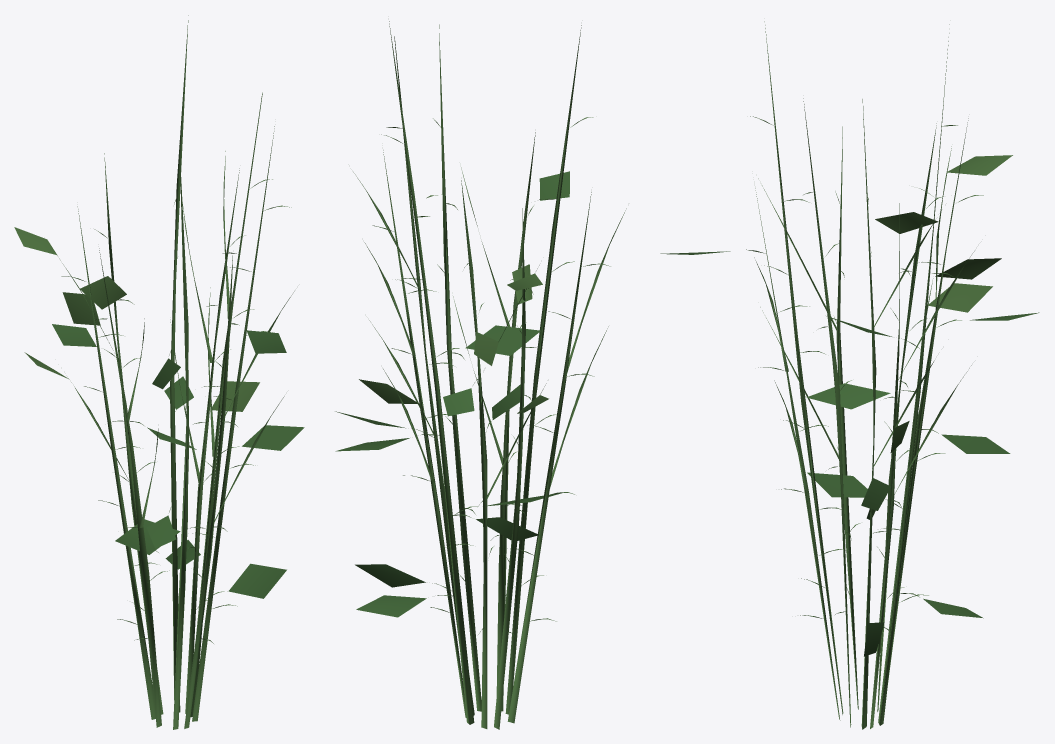
Rendered from Fragon_1_Niveau2.fbx.
3 renders of one model, left to right at view 1: azimuth 30°, elevation 25°; view 2: azimuth 150°, elevation 25°; view 3: azimuth 270°, elevation 25°, orthographic. The views are drawn at different scales.
Visible parts, largest first — view 1: Fragon_1_Niveau2; view 2: Fragon_1_Niveau2; view 3: Fragon_1_Niveau2.
Part boxes in pixels (box(x1,y1,x2,y2)): Fragon_1_Niveau2: box(14, 15, 304, 729); Fragon_1_Niveau2: box(335, 21, 626, 729); Fragon_1_Niveau2: box(660, 21, 1039, 729).
Size of the model in its own units: 27.2 by 72.74 by 34.41.
